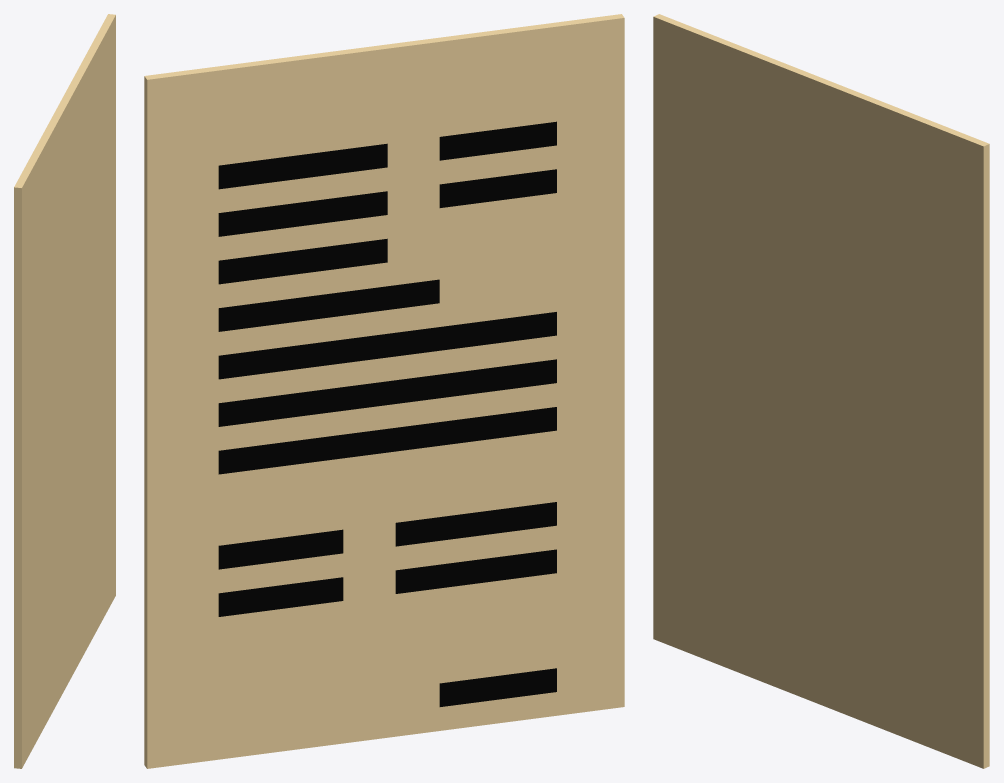
File: Paper 1.fbx
3 views of the same model, side by side, from view 1: azimuth 30°, elevation 25°; view 2: azimuth 150°, elevation 25°; view 3: azimuth 270°, elevation 25° (orthographic). The views are drawn at different scales.
Visible parts, largest first — view 1: Paper 1; view 2: Paper 1; view 3: Paper 1.
Part boxes in pixels (x1,y1,x2,y2): Paper 1: (14,14,115,768); Paper 1: (144,14,624,768); Paper 1: (653,14,989,768).
Size of the model in its own units: 34.41 by 36.9 by 75.37.
